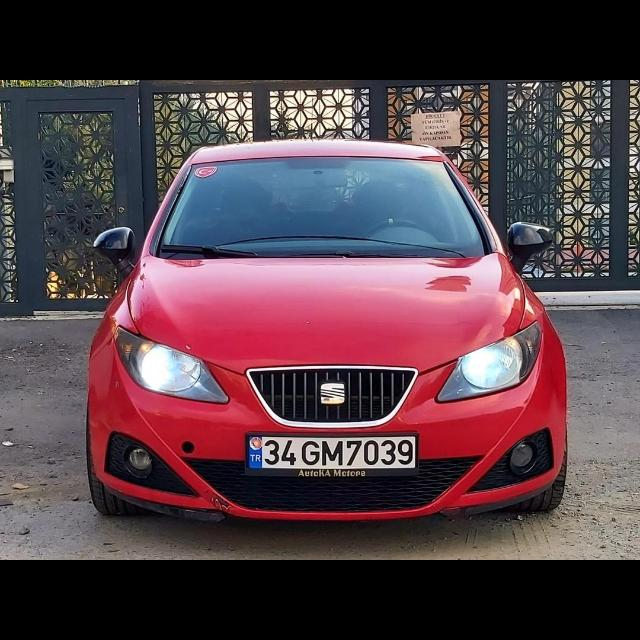Plaka: (249, 436, 416, 470)
